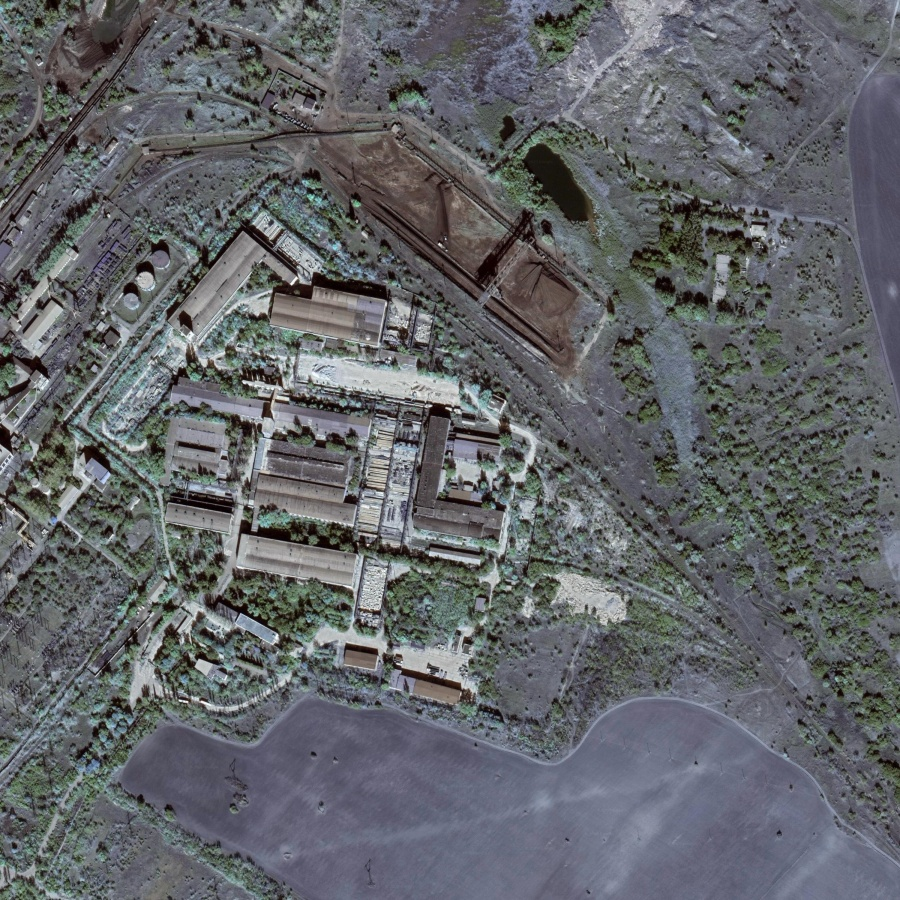PowerPlant: (294, 113, 584, 366)
